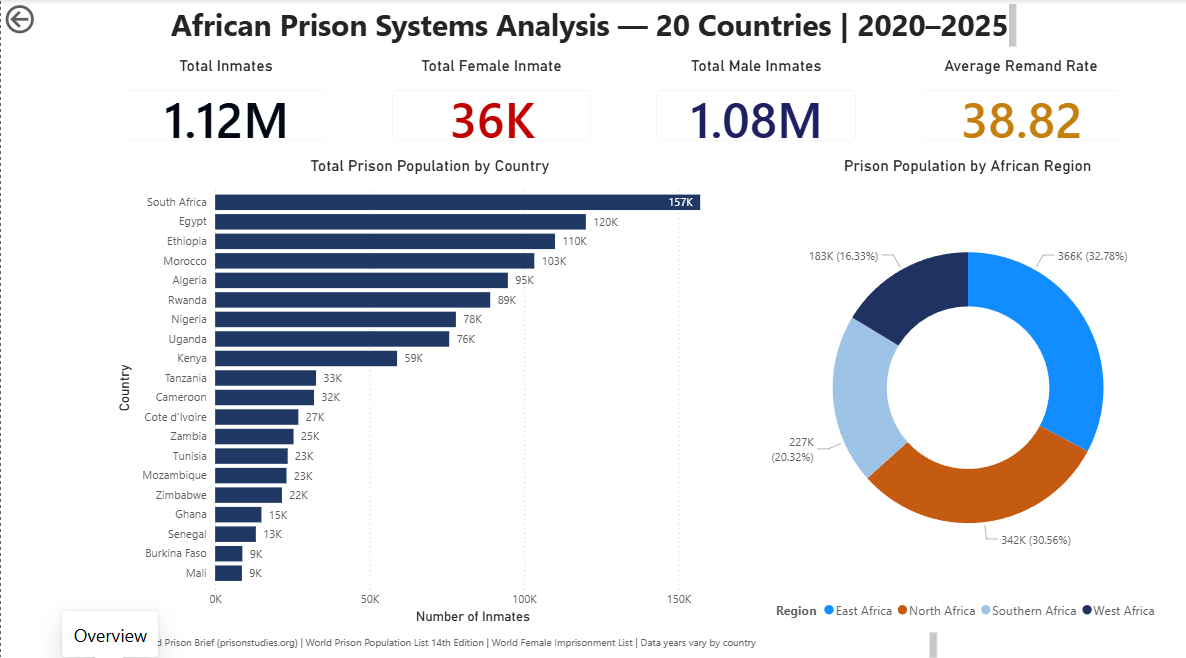

The page's visual inventory and layout, read from the dashboard file:
{"tool":"powerbi","page":{"name":"Overview","canvas":[1280,720],"ordinal":0},"visuals":[{"type":"cardVisual","title":"Total Inmates","fields":{"Data":["Sum(Main Analysis Table.Total Inmates)"]},"box":[118.2,61.5,249.4,108.5],"z":0},{"type":"cardVisual","title":"Total Female Inmate","fields":{"Data":["Sum(Main Analysis Table.Female Count)"]},"box":[404.8,61.5,249.4,108.5],"z":1000},{"type":"cardVisual","title":"Total Male Inmates","fields":{"Data":["Sum(Main Analysis Table.Male Count)"]},"box":[689.8,61.5,251,108.5],"z":2000},{"type":"cardVisual","title":"Average Remand Rate","fields":{"Data":["Avg(Main Analysis Table.Remand %)"]},"box":[976.4,61.5,249.4,108.5],"z":3000},{"type":"clusteredBarChart","title":"Total Prison Population by Country","fields":{"Category":["Main Analysis Table.Country"],"Y":["Sum(Main Analysis Table.Total Inmates)"]},"box":[119.8,170,686.6,508.4],"z":4000},{"type":"donutChart","title":"Prison Population by African Region","fields":{"Category":["Main Analysis Table.Region"],"Y":["Sum(Main Analysis Table.Total Inmates)"]},"box":[806.4,170,474.4,508.4],"z":5000},{"type":"actionButton","box":[0,1.6,100.4,40.5],"z":7000},{"type":"textbox","box":[178.1,0,923,63.1],"z":8000},{"type":"textbox","box":[100.4,678.5,914.9,42.1],"z":9000}]}

Visuals, with their boxes on the page's 1280x720 design canvas (x1, y1, x2, y2). These are canvas units, not pixel positions in the 1186x658 screenshot, which may show the page scaled, cropped or inside an application window:
"Total Inmates" cardVisual: 118:62:368:170
"Total Female Inmate" cardVisual: 405:62:654:170
"Total Male Inmates" cardVisual: 690:62:941:170
"Average Remand Rate" cardVisual: 976:62:1226:170
"Total Prison Population by Country" clusteredBarChart: 120:170:806:678
"Prison Population by African Region" donutChart: 806:170:1281:678
actionButton: 0:2:100:42
textbox: 178:0:1101:63
textbox: 100:678:1015:721
